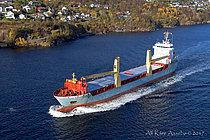Ship: (51, 31, 188, 110)
